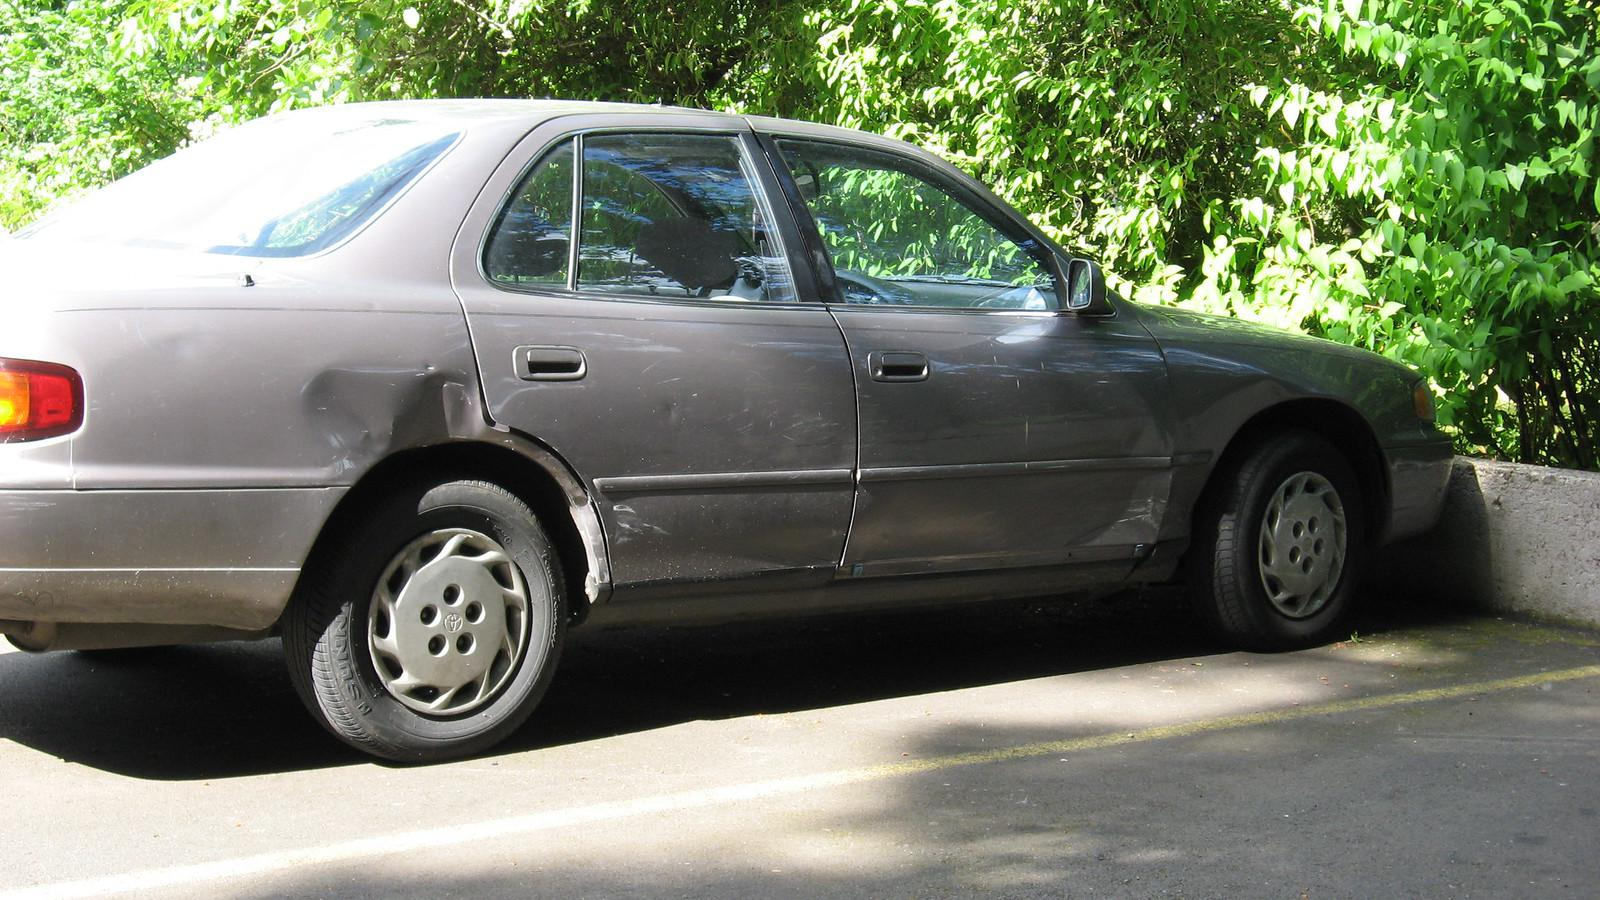quaterpanel-dent: (235, 298, 495, 490)
